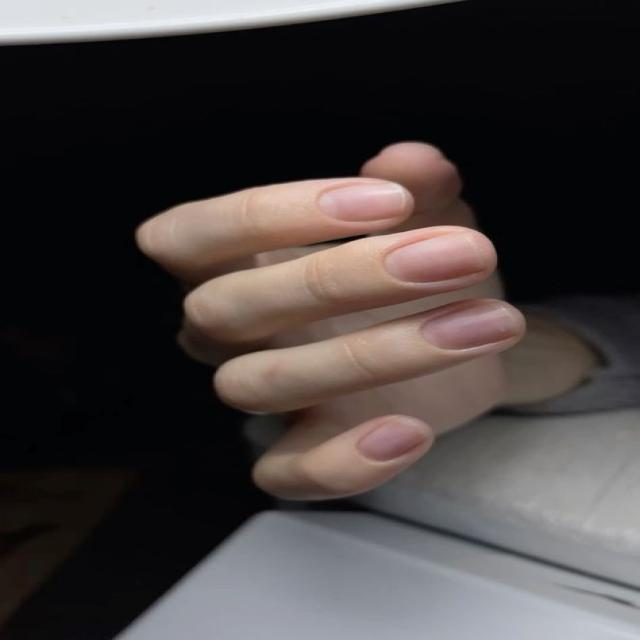Fingernail: (385, 232, 486, 283), (421, 300, 518, 350), (320, 182, 406, 222), (359, 420, 427, 462)
